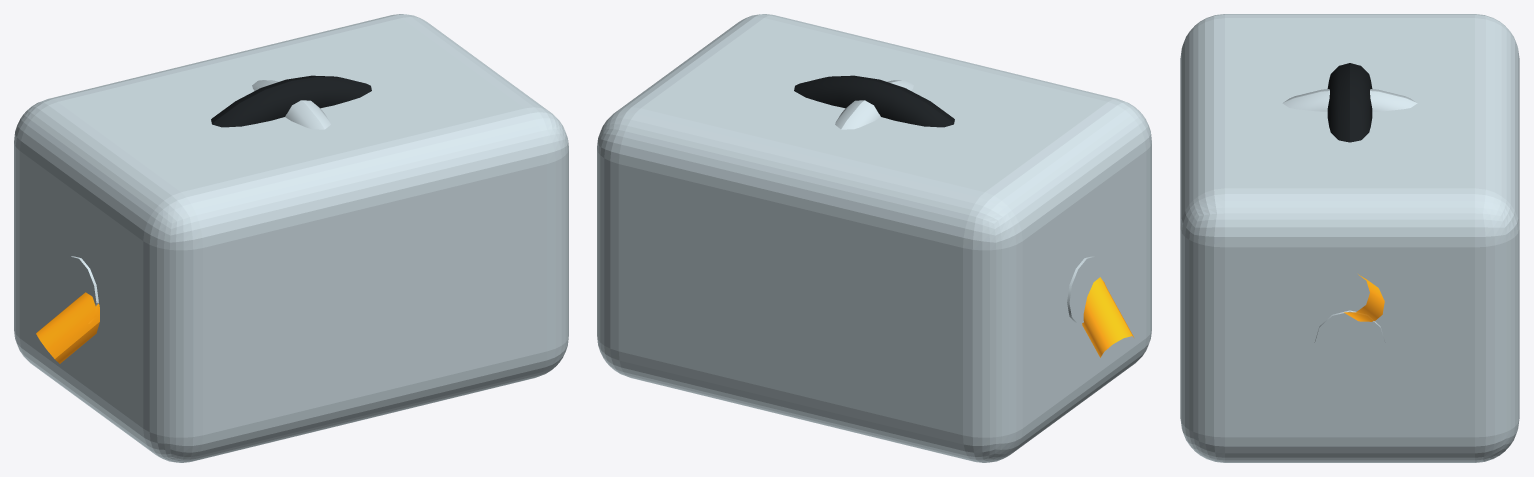
File: remaining_systems_01.glb
3 renders of one model, left to right at view 1: azimuth 30°, elevation 25°; view 2: azimuth 150°, elevation 25°; view 3: azimuth 270°, elevation 25°, orthographic.
Visible parts, largest first — view 1: asset_mesh__remaining_systems_0008__reference_body, asset_mesh__remaining_systems_0007__service_element, asset_mesh__remaining_systems_0014__fluid_path, asset_mesh__remaining_systems_0025__assembly_axis, asset_mesh__remaining_systems_0132__functional_ring; view 2: asset_mesh__remaining_systems_0008__reference_body, asset_mesh__remaining_systems_0007__service_element, asset_mesh__remaining_systems_0014__fluid_path, asset_mesh__remaining_systems_0025__assembly_axis, asset_mesh__remaining_systems_0132__functional_ring; view 3: asset_mesh__remaining_systems_0008__reference_body, asset_mesh__remaining_systems_0025__assembly_axis, asset_mesh__remaining_systems_0007__service_element, asset_mesh__remaining_systems_0132__functional_ring, asset_mesh__remaining_systems_0014__fluid_path.
Part boxes in pixels (bbox=[...]): asset_mesh__remaining_systems_0008__reference_body: bbox=[14, 14, 568, 462]; asset_mesh__remaining_systems_0007__service_element: bbox=[211, 75, 371, 127]; asset_mesh__remaining_systems_0014__fluid_path: bbox=[36, 292, 99, 363]; asset_mesh__remaining_systems_0025__assembly_axis: bbox=[61, 256, 98, 306]; asset_mesh__remaining_systems_0132__functional_ring: bbox=[252, 80, 330, 129]; asset_mesh__remaining_systems_0008__reference_body: bbox=[597, 14, 1151, 462]; asset_mesh__remaining_systems_0007__service_element: bbox=[794, 75, 954, 127]; asset_mesh__remaining_systems_0014__fluid_path: bbox=[1082, 277, 1133, 357]; asset_mesh__remaining_systems_0025__assembly_axis: bbox=[1067, 256, 1104, 323]; asset_mesh__remaining_systems_0132__functional_ring: bbox=[835, 80, 913, 129]; asset_mesh__remaining_systems_0008__reference_body: bbox=[1180, 14, 1519, 462]; asset_mesh__remaining_systems_0025__assembly_axis: bbox=[1314, 310, 1385, 375]; asset_mesh__remaining_systems_0007__service_element: bbox=[1327, 63, 1372, 142]; asset_mesh__remaining_systems_0132__functional_ring: bbox=[1282, 89, 1417, 111]; asset_mesh__remaining_systems_0014__fluid_path: bbox=[1344, 274, 1384, 321].
Size of the model in its own units: 1.47 by 0.8732 by 0.84.
